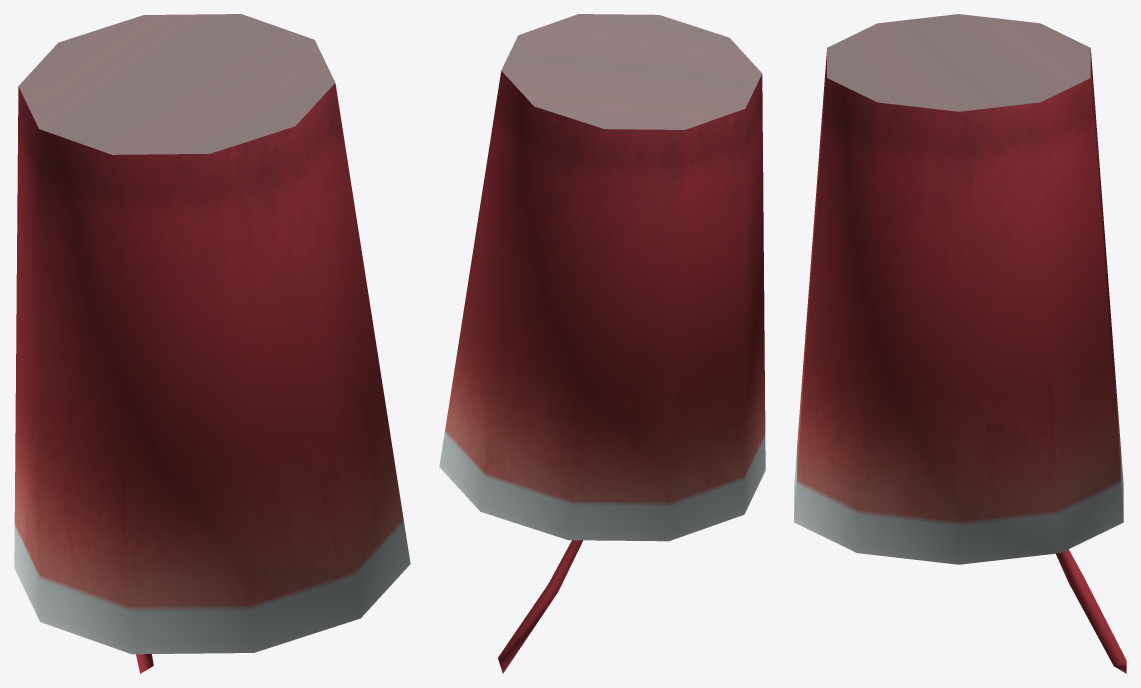
File: H_Tumbler_Smoothie.fbx
The picture shows the model from 3 angles, left to right: view 1: azimuth 30°, elevation 25°; view 2: azimuth 150°, elevation 25°; view 3: azimuth 270°, elevation 25°; orthographic projection. The views are drawn at different scales.
Visible parts, largest first — view 1: GlassTumbler.001; view 2: GlassTumbler.001; view 3: GlassTumbler.001.
Boxes of the visible parts, box(x1,y1,x2,y2) form: GlassTumbler.001: box(14, 14, 410, 673); GlassTumbler.001: box(439, 14, 765, 673); GlassTumbler.001: box(794, 14, 1126, 673).
Bounding box in the file's own units: 19.12 × 36.23 × 18.35.
